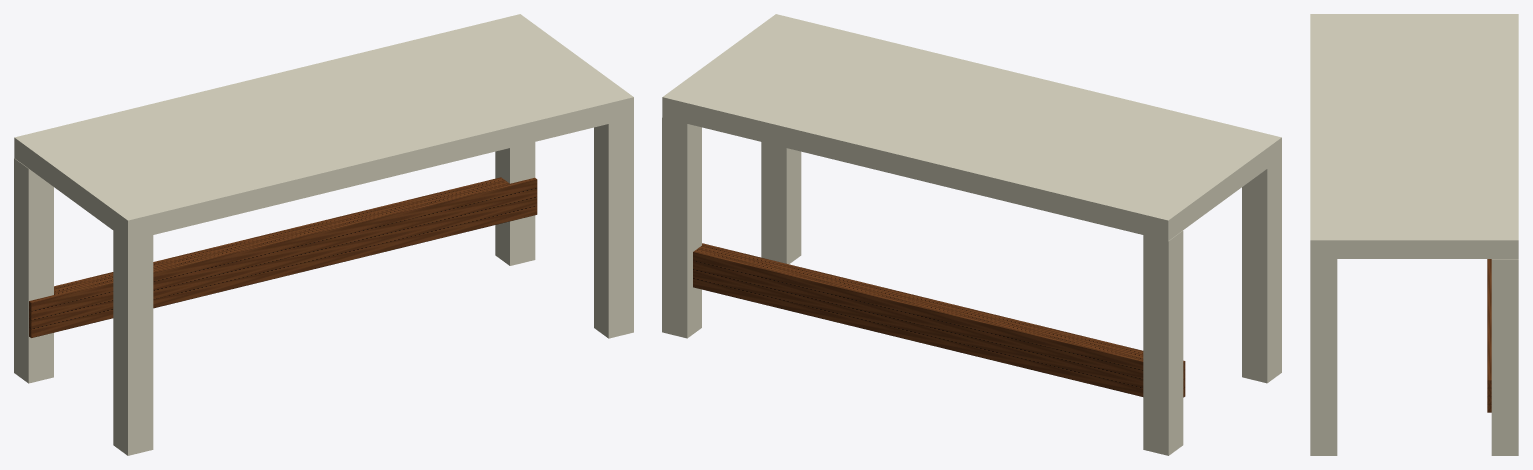
The model's file is prehistoric-survivor-settlement-stone-cooking-counter-57ae43aa__23205.glb.
The picture shows the model from 3 angles, left to right: view 1: azimuth 30°, elevation 25°; view 2: azimuth 150°, elevation 25°; view 3: azimuth 270°, elevation 25°; orthographic projection. The views are drawn at different scales.
Visible parts, largest first — view 1: stone-cooking-counter; view 2: stone-cooking-counter; view 3: stone-cooking-counter.
Part boxes in pixels (x1,y1,x2,y2): stone-cooking-counter: (14,14,633,455); stone-cooking-counter: (662,14,1281,455); stone-cooking-counter: (1310,14,1518,455).
Size of the model in its own units: 1.8 by 0.8001 by 0.7.
Materials: 2 (1 with a texture image).
